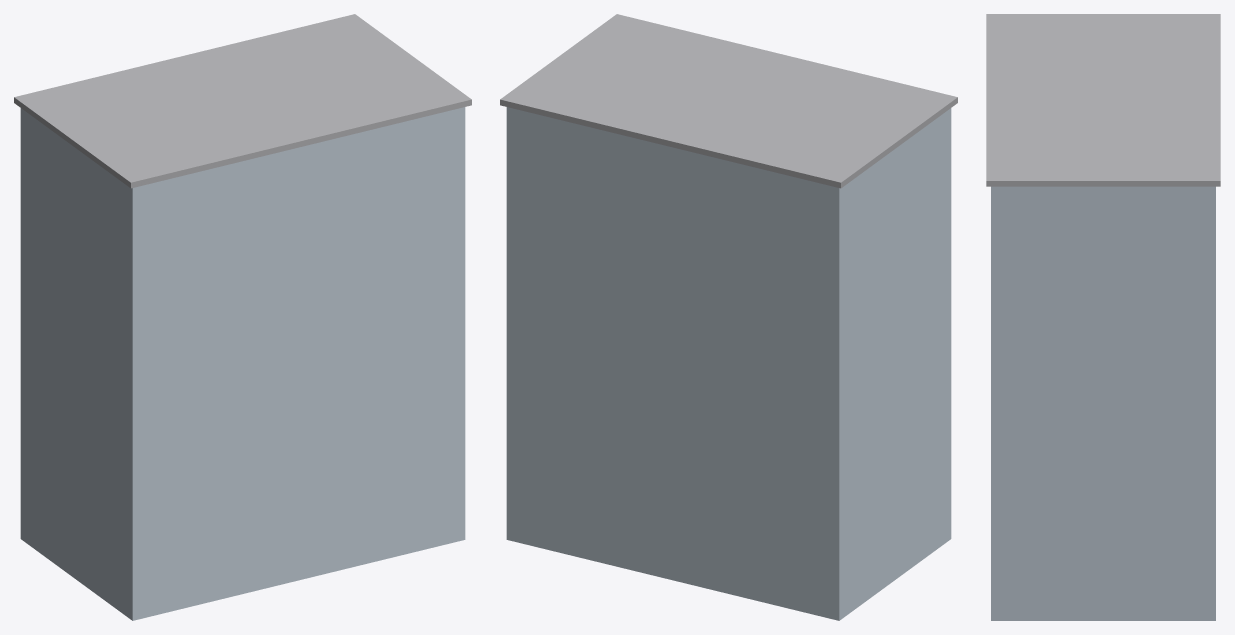
Rendered from tower-b.lod.glb.
3 renders of one model, left to right at view 1: azimuth 30°, elevation 25°; view 2: azimuth 150°, elevation 25°; view 3: azimuth 270°, elevation 25°, orthographic.
Visible parts, largest first — view 1: Body, Roof; view 2: Body, Roof; view 3: Body, Roof.
Part boxes in pixels (box(x1,y1,x2,y2)): Body: box(20, 107, 465, 620); Roof: box(14, 14, 471, 188); Body: box(506, 107, 951, 620); Roof: box(500, 14, 957, 188); Body: box(991, 186, 1215, 620); Roof: box(986, 14, 1220, 186).
Bounding box in the file's own units: 24.6 × 30.4 × 14.6.
